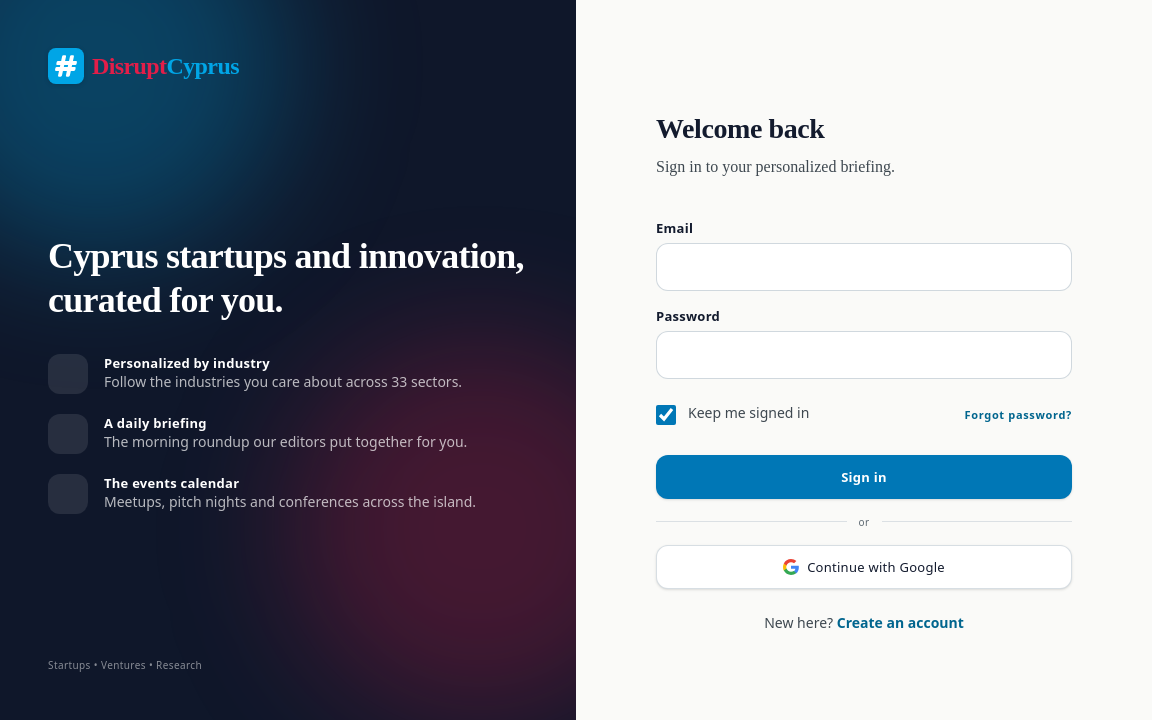
Scenario: sign in › shows server errors on the matching field
This screenshot has width=1152, height=720.
Type "anna@example.com" into the field labelled "Email" at (864, 266), box [656,242,1072,290]
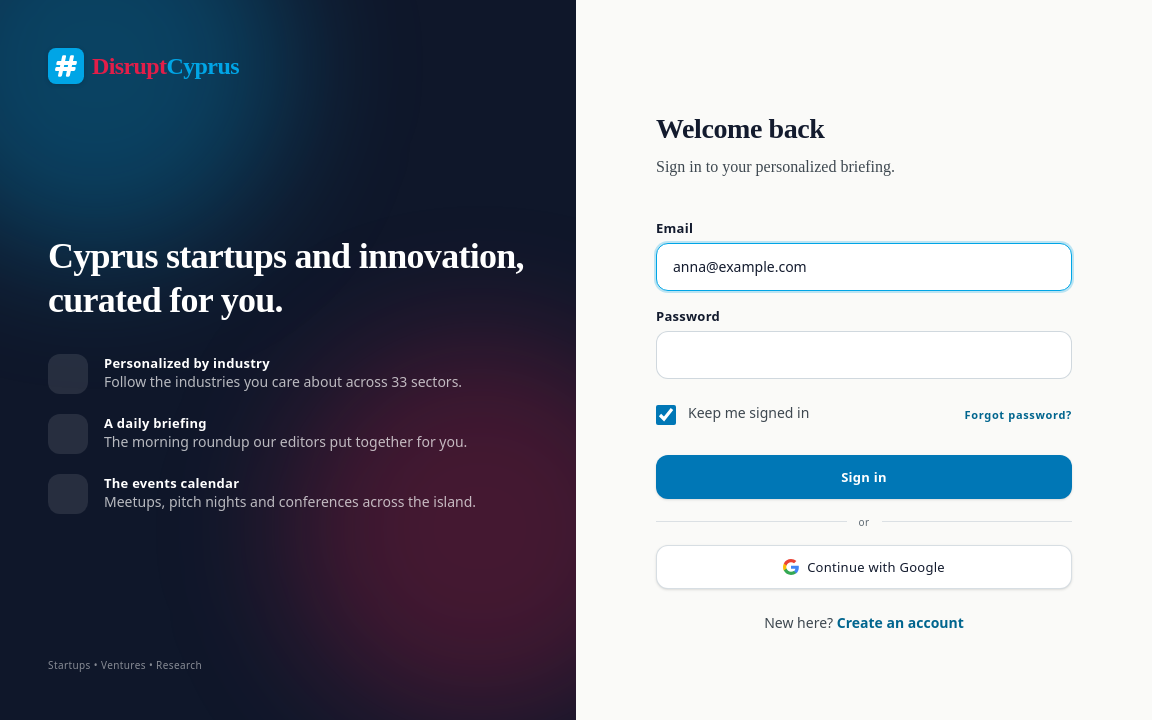
Type "wrong-password" into the password field labelled "Password" at (864, 354), box [656,330,1072,378]
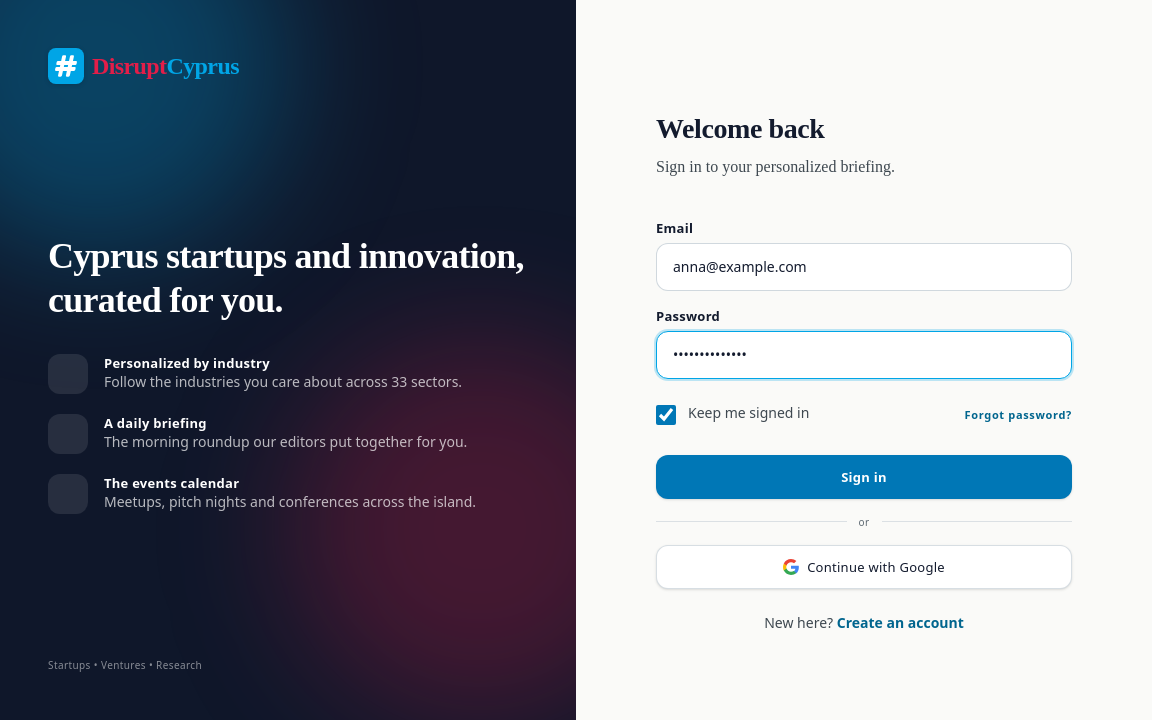
Click the button "Sign in" at (864, 476), box [656,454,1072,498]
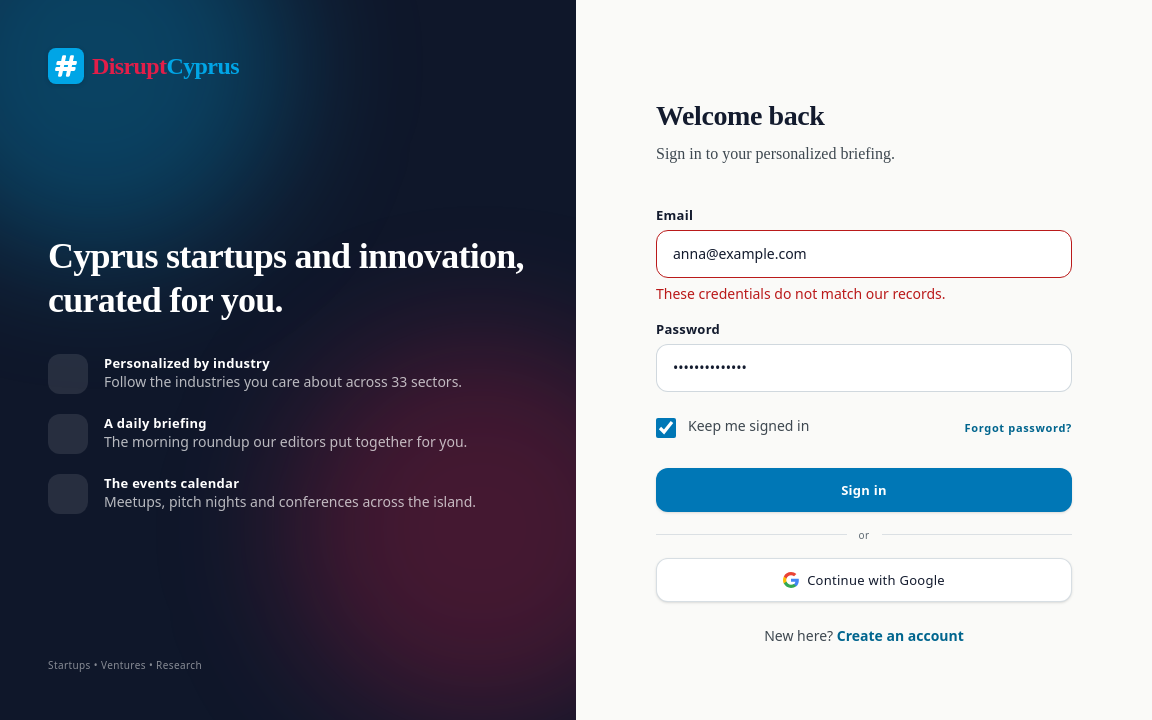
Check: the text "These credentials do not match our records." is shown, box [656,284,946,302]
